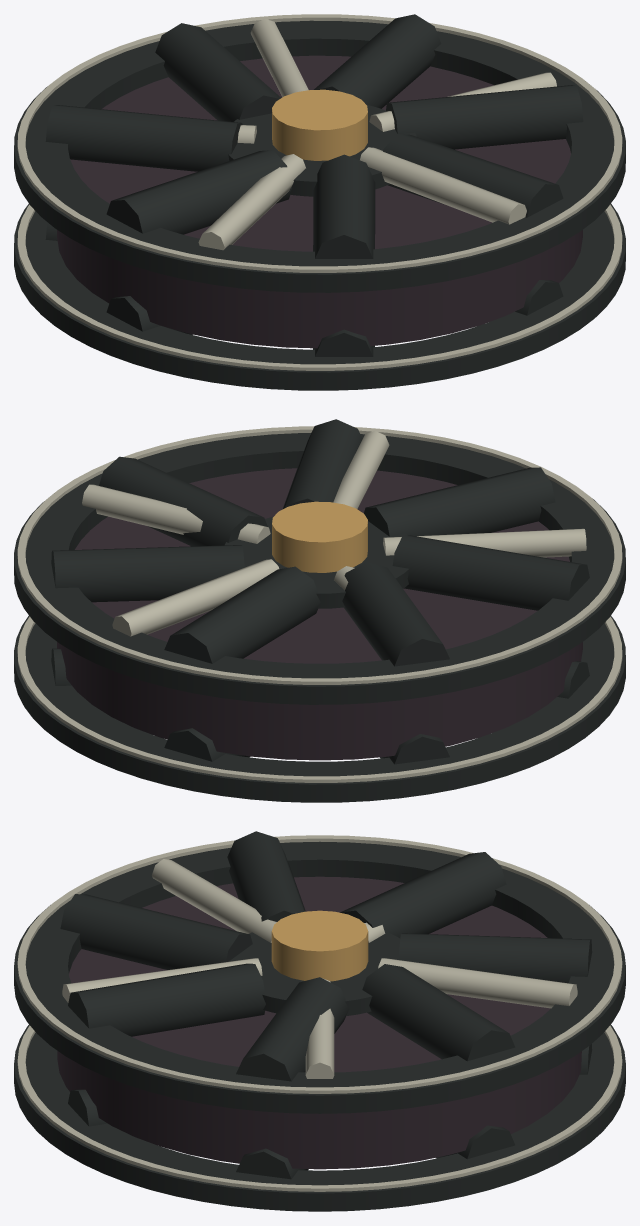
Rendered from Courier.glb.
3 views of the same model, one above another, from view 1: azimuth 30°, elevation 25°; view 2: azimuth 150°, elevation 25°; view 3: azimuth 270°, elevation 25° (orthographic).
Visible parts, largest first — view 1: Stamped outer rim (×2), Pressed web (×10), Wound silk, Pressed lip (×2), Raised spoke (×4), Spindle, Spool hub; view 2: Stamped outer rim (×2), Pressed web (×10), Wound silk, Pressed lip (×2), Raised spoke (×4), Spindle, Spool hub; view 3: Stamped outer rim (×2), Pressed web (×10), Wound silk, Pressed lip (×2), Raised spoke (×4), Spindle, Spool hub.
Part boxes in pixels (bbox=[...]): Stamped outer rim (×2): bbox=[14, 20, 625, 390]; Pressed web (×10): bbox=[45, 14, 583, 356]; Wound silk: bbox=[57, 55, 582, 348]; Pressed lip (×2): bbox=[17, 14, 622, 370]; Raised spoke (×4): bbox=[198, 18, 556, 250]; Spindle: bbox=[272, 89, 367, 160]; Spool hub: bbox=[228, 104, 416, 196]; Stamped outer rim (×2): bbox=[14, 433, 625, 802]; Pressed web (×10): bbox=[51, 419, 589, 764]; Wound silk: bbox=[57, 468, 582, 760]; Pressed lip (×2): bbox=[17, 426, 622, 782]; Raised spoke (×4): bbox=[82, 431, 586, 636]; Spindle: bbox=[272, 501, 367, 572]; Spool hub: bbox=[225, 516, 409, 608]; Stamped outer rim (×2): bbox=[14, 841, 625, 1211]; Pressed web (×10): bbox=[60, 831, 592, 1179]; Wound silk: bbox=[57, 876, 581, 1169]; Pressed lip (×2): bbox=[17, 835, 622, 1191]; Raised spoke (×4): bbox=[62, 859, 577, 1078]; Spindle: bbox=[271, 910, 368, 981]; Spool hub: bbox=[229, 932, 400, 1016].
Bounding box in the file's own units: 0.85 × 0.253 × 0.85.
